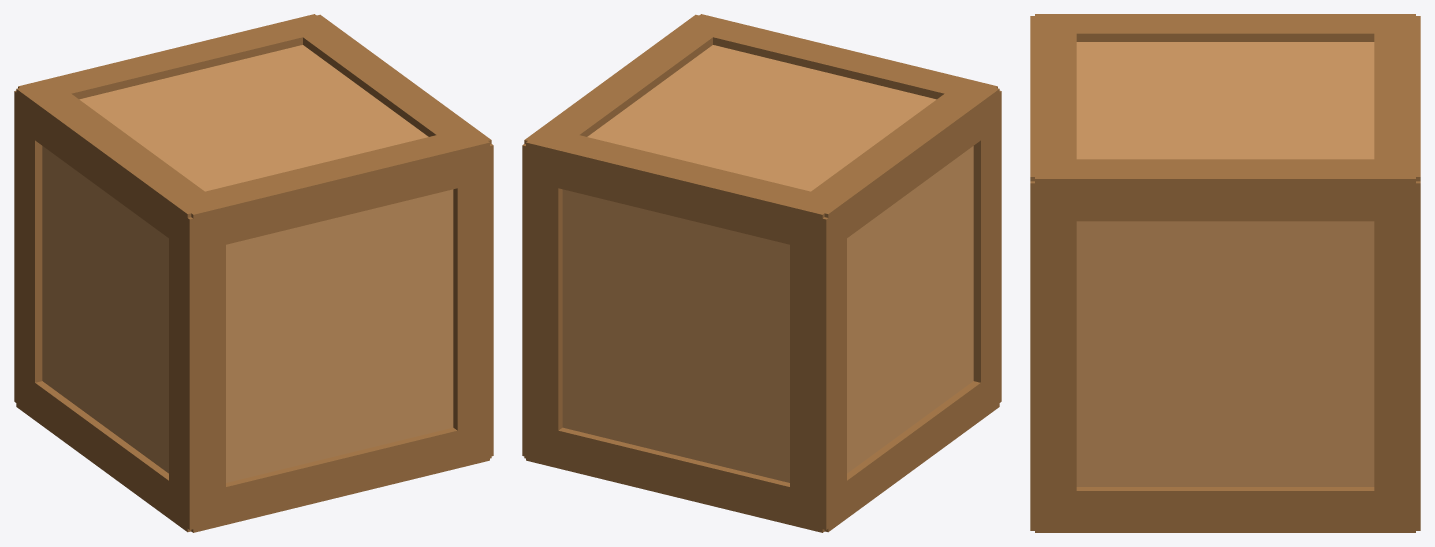
The model's file is Crate.obj.
3 views of the same model, side by side, from view 1: azimuth 30°, elevation 25°; view 2: azimuth 150°, elevation 25°; view 3: azimuth 270°, elevation 25° (orthographic). The views are drawn at different scales.
Parts seen in each view (by area): view 1: Crate; view 2: Crate; view 3: Crate.
Part boxes in pixels (bbox=[...]): Crate: bbox=[14, 14, 493, 532]; Crate: bbox=[522, 14, 1001, 532]; Crate: bbox=[1030, 14, 1420, 532].
Bounding box in the file's own units: 0.84 × 0.84 × 0.84.
Materials: 1 (1 with a texture image).
